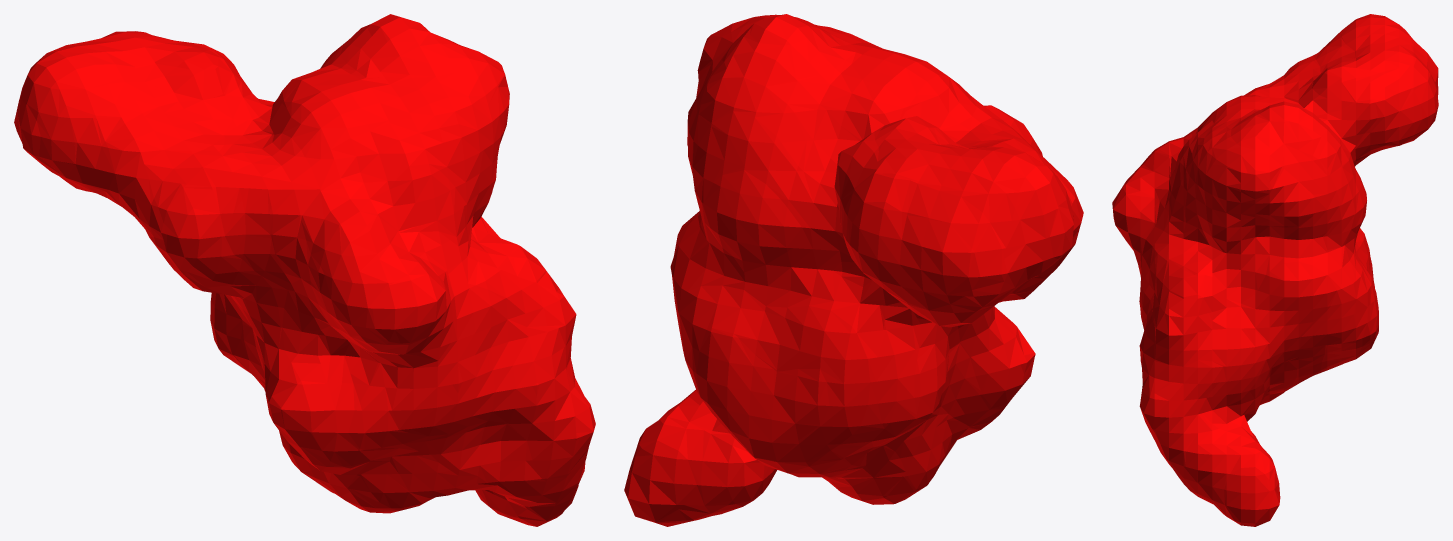
The model's file is dcuR_coarse.dae.
The picture shows the model from 3 angles, left to right: view 1: azimuth 30°, elevation 25°; view 2: azimuth 150°, elevation 25°; view 3: azimuth 270°, elevation 25°; orthographic projection. The views are drawn at different scales.
Parts seen in each view (by area): view 1: dcuR; view 2: dcuR; view 3: dcuR.
Boxes of the visible parts, box(x1,y1,x2,y2) form: dcuR: box(14, 14, 595, 526); dcuR: box(624, 14, 1083, 526); dcuR: box(1112, 14, 1438, 526).
Bounding box in the file's own units: 62.03 × 63.64 × 50.15.
